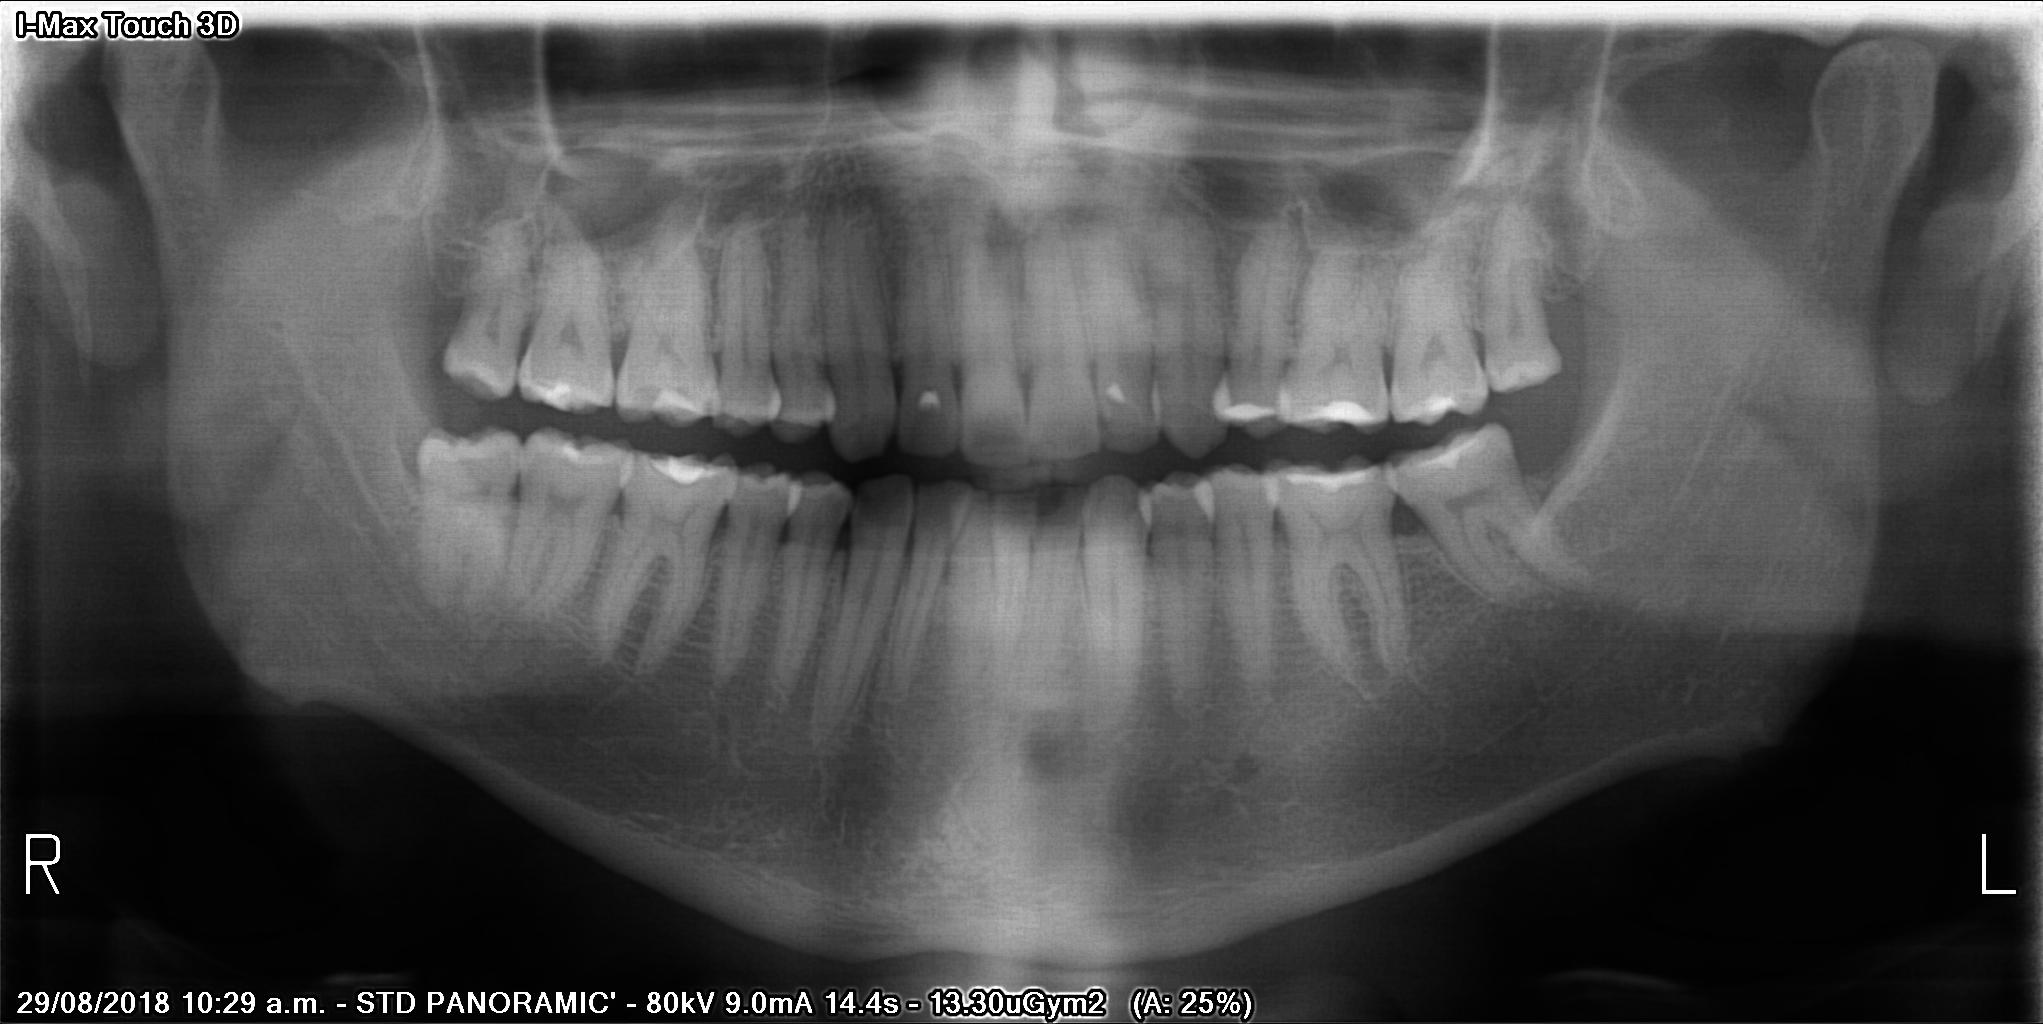Çürük: (1292, 383, 1388, 431), (1388, 383, 1469, 431), (1205, 374, 1281, 424), (646, 445, 726, 486), (529, 363, 584, 414), (1279, 465, 1376, 491), (649, 383, 711, 422), (550, 431, 591, 474), (906, 380, 957, 414), (1099, 374, 1138, 411)
